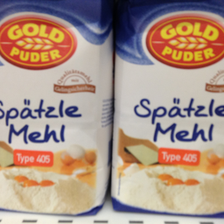flour: (111, 1, 224, 219), (1, 1, 113, 218)
